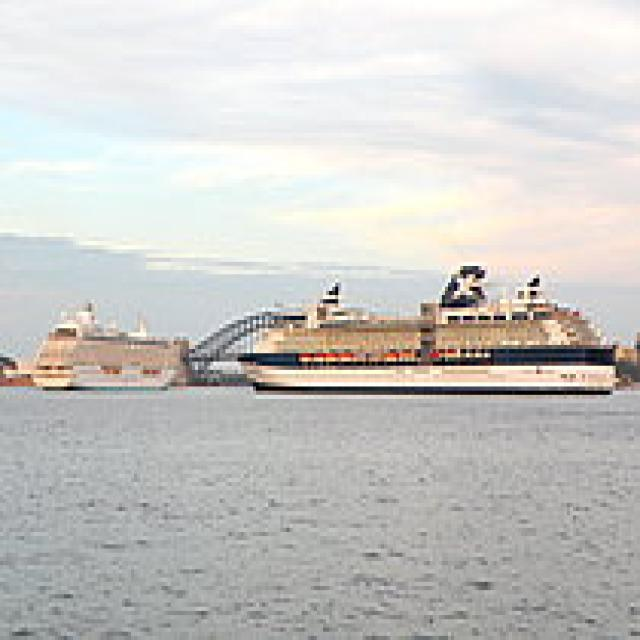Cruise: (228, 258, 618, 394), (24, 291, 183, 391)
